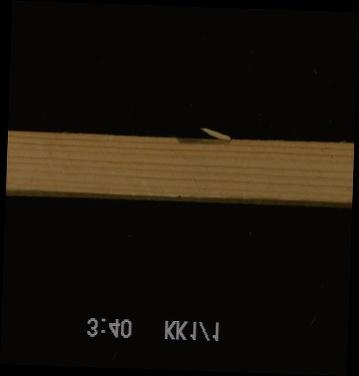wave: (173, 138, 234, 150)
